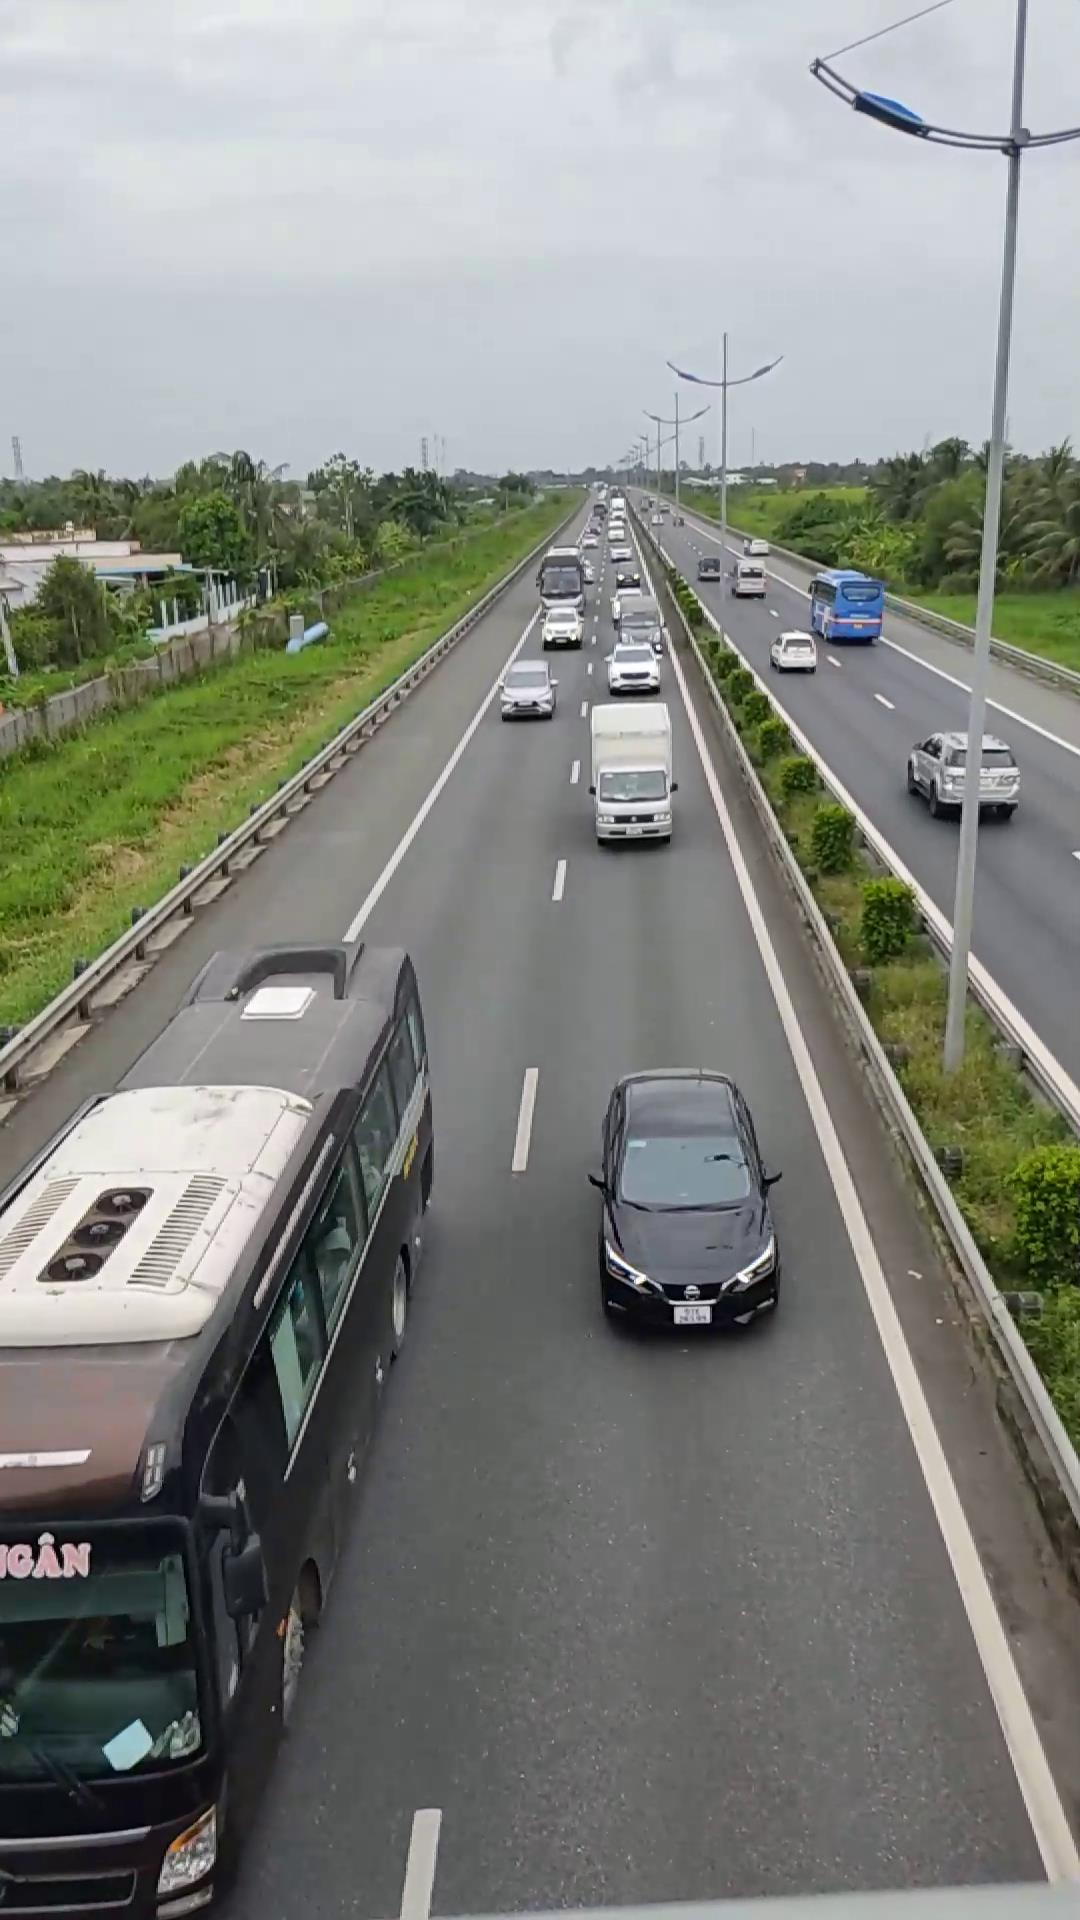bus: (0, 935, 439, 1913)
car: (588, 1065, 785, 1335), (905, 729, 1021, 820)
truck: (580, 698, 680, 845)
